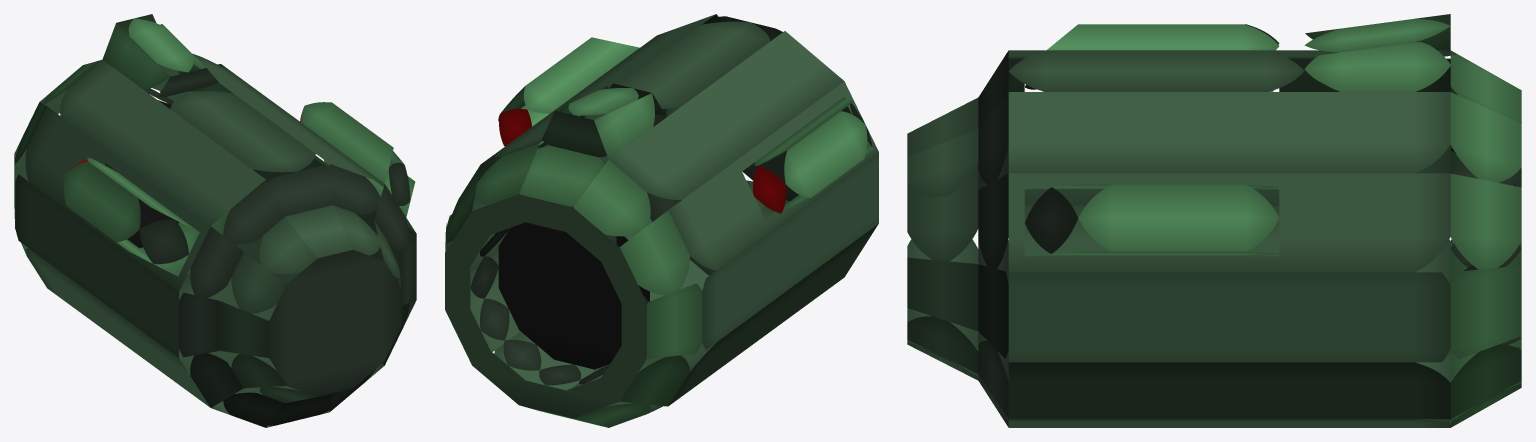
The model's file is CommandoHead.obj.
3 views of the same model, side by side, from view 1: azimuth 30°, elevation 25°; view 2: azimuth 150°, elevation 25°; view 3: azimuth 270°, elevation 25° (orthographic). The views are drawn at different scales.
Parts seen in each view (by area): view 1: cylinder; view 2: cylinder; view 3: cylinder.
Boxes of the visible parts, x1=… form: cylinder: x1=14, y1=14, x2=416, y2=427; cylinder: x1=445, y1=14, x2=878, y2=427; cylinder: x1=907, y1=14, x2=1521, y2=427.
Bounding box in the file's own units: 0.3921 × 0.3687 × 0.5391.
1 material, 1 textured.
